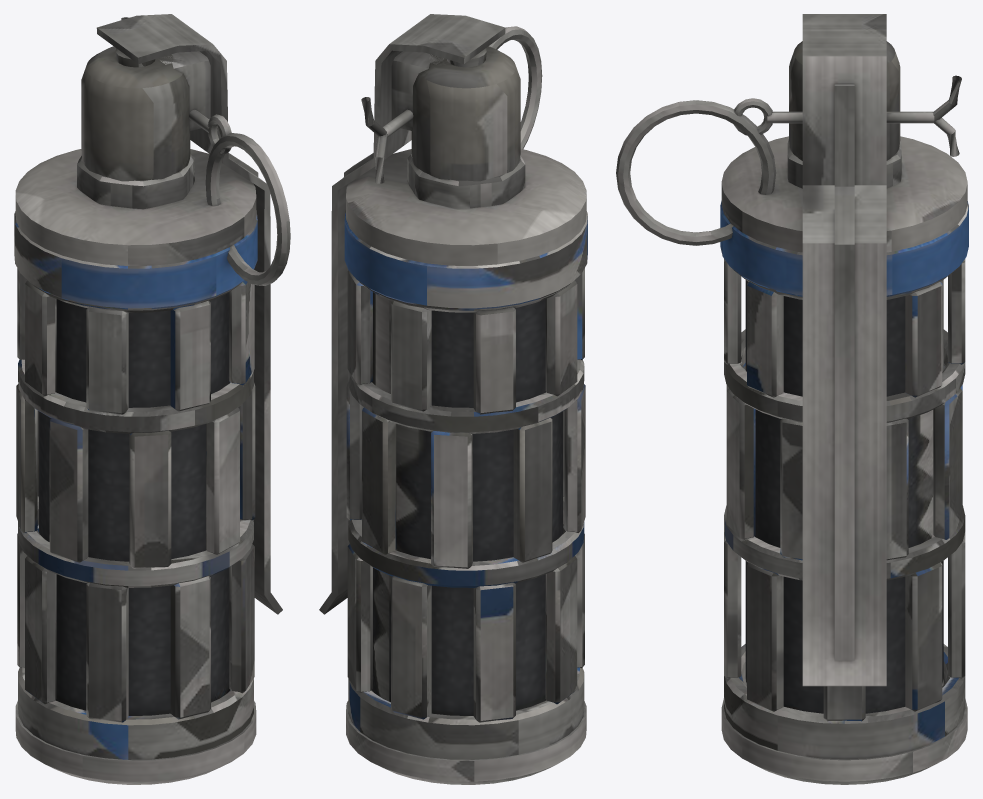
File: flash_grenade.glb
3 renders of one model, left to right at view 1: azimuth 30°, elevation 25°; view 2: azimuth 150°, elevation 25°; view 3: azimuth 270°, elevation 25°, orthographic.
Parts seen in each view (by area): view 1: core, cap_top, fuze_body, spoon, band, ring_0, cap_bottom, bar_0_3, bar_1_2, ring_1, ring_2, bar_0_2 (+17 smaller); view 2: core, cap_top, spoon, fuze_body, band, ring_0, cap_bottom, bar_0_5, ring_1, bar_1_5, ring_2, bar_0_6 (+16 smaller); view 3: spoon, core, cap_top, spoon_rib, ring_0, band, cap_bottom, pull_ring, bar_0_7, bar_0_1, ring_2, bar_1_1 (+15 smaller).
Boxes of the visible parts, x1,y1,x2,y2 form: core: (39,292,230,715); cap_top: (15,149,256,265); fuze_body: (81,46,190,181); spoon: (96,14,282,614); band: (14,210,257,309); ring_0: (18,667,253,759); cap_bottom: (15,701,256,784); bar_0_3: (86,582,128,722); bar_1_2: (129,431,171,568); ring_1: (18,496,253,587); ring_2: (18,359,253,433); bar_0_2: (170,576,210,719); core: (372,292,562,715); cap_top: (346,149,586,265); spoon: (319,14,505,614); fuze_body: (411,46,520,181); band: (344,210,587,309); ring_0: (348,667,584,759); cap_bottom: (346,701,586,784); bar_0_5: (473,582,515,722); ring_1: (348,496,584,587); bar_1_5: (431,431,472,568); ring_2: (348,359,584,433); bar_0_6: (391,576,431,719); spoon: (802,14,886,686); core: (745,280,943,713); cap_top: (721,136,967,252); spoon_rib: (834,84,854,660); ring_0: (724,644,965,759); band: (720,201,968,296); cap_bottom: (721,698,967,784); pull_ring: (616,100,776,245); bar_0_7: (905,562,942,711); bar_0_1: (747,562,783,711); ring_2: (724,329,965,422); bar_1_1: (726,388,755,539).
Bounding box in the file's own units: 0.0442 × 0.1281 × 0.0571.
1 material, 1 textured.
